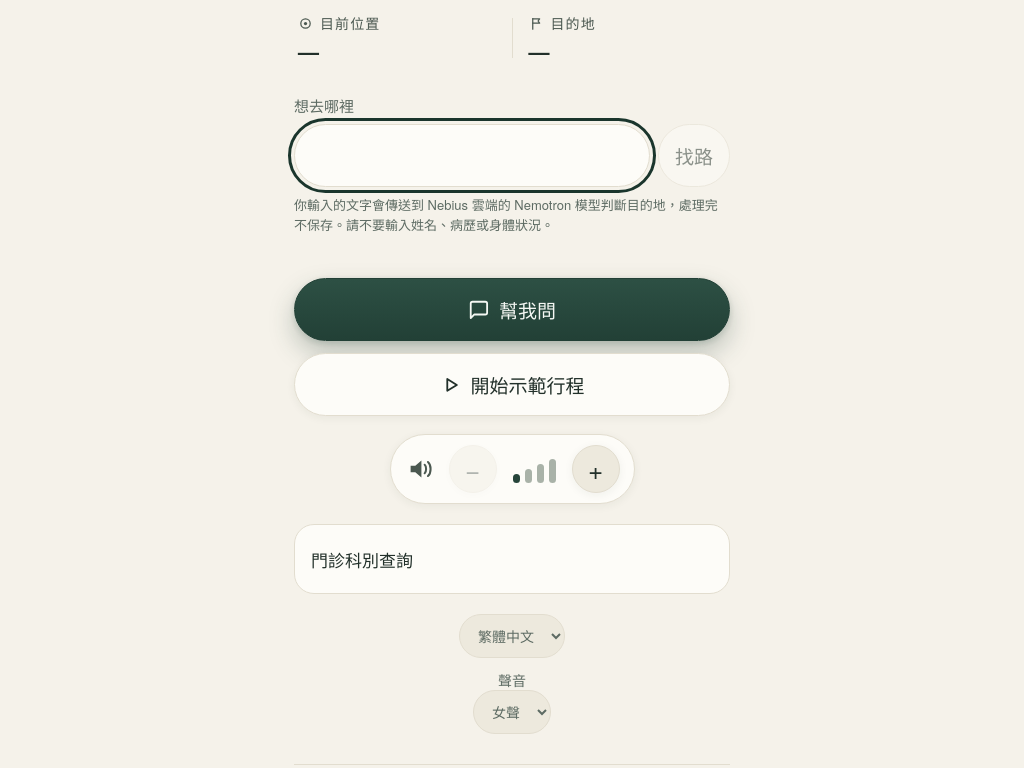
Test: asking for help without a destination › only offers the explicitly labelled demo before a destination query
This screenshot has width=1024, height=768.
(page scrolled)
Click the button "開始示範行程" at (512, 385), box x1=294 y1=353 x2=730 y2=416
(page scrolled)
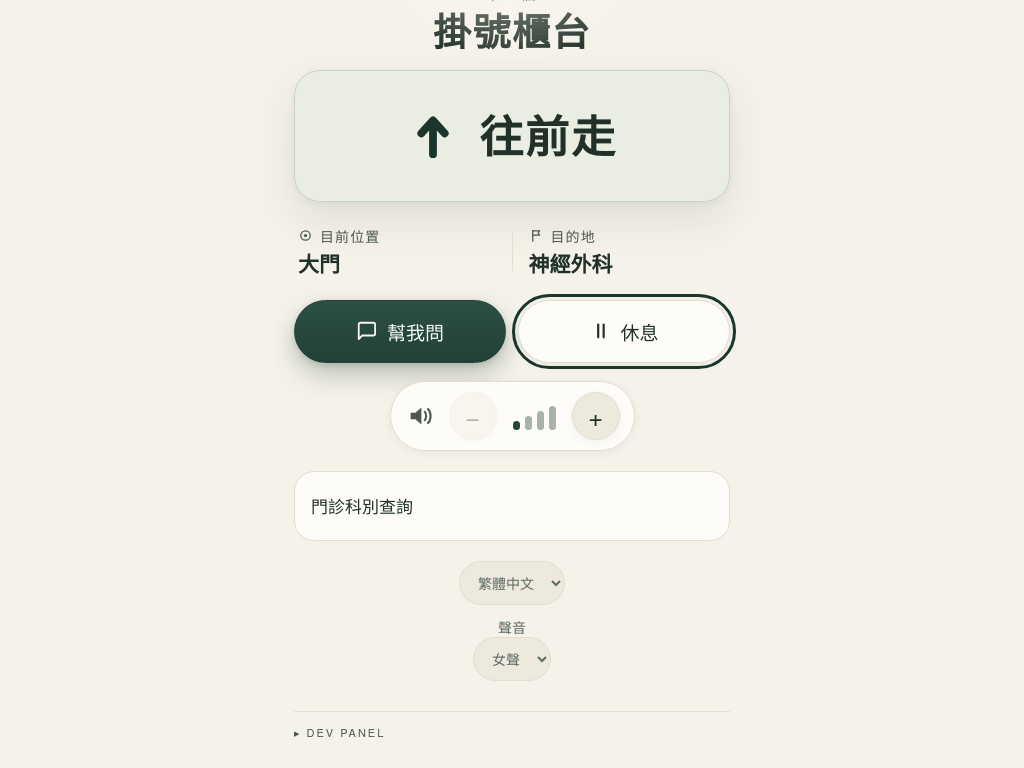
Click the button "幫我問" at (400, 331), box x1=294 y1=300 x2=506 y2=363
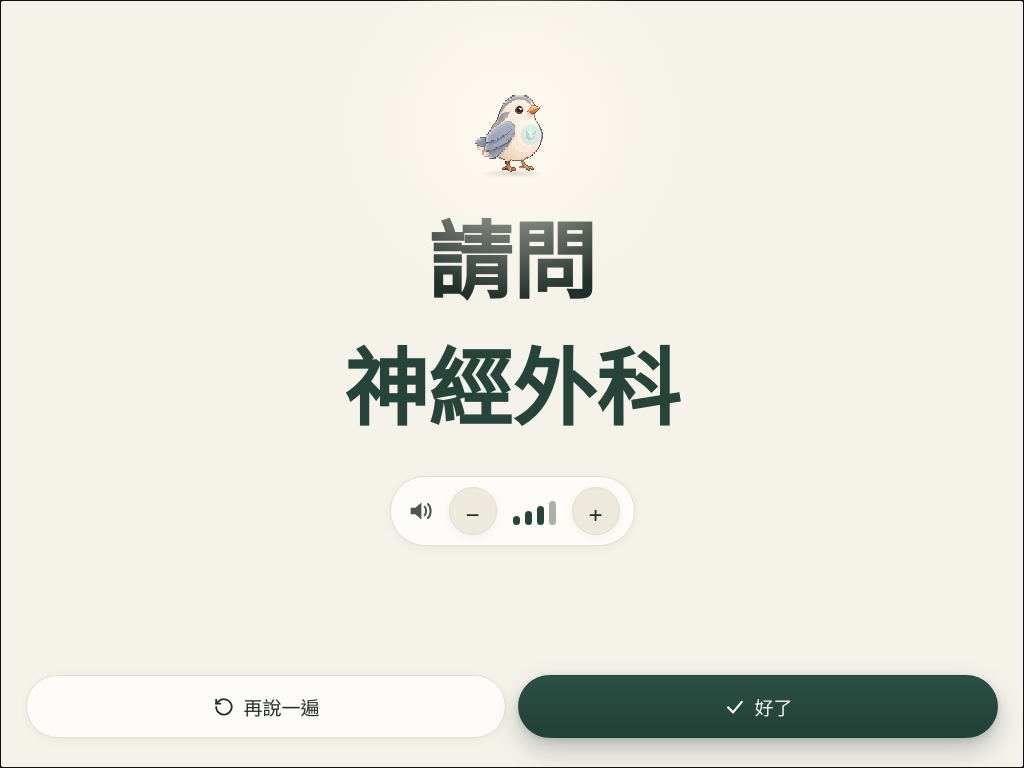
expect the dialog named "請問，神經外科？" is shown: met
